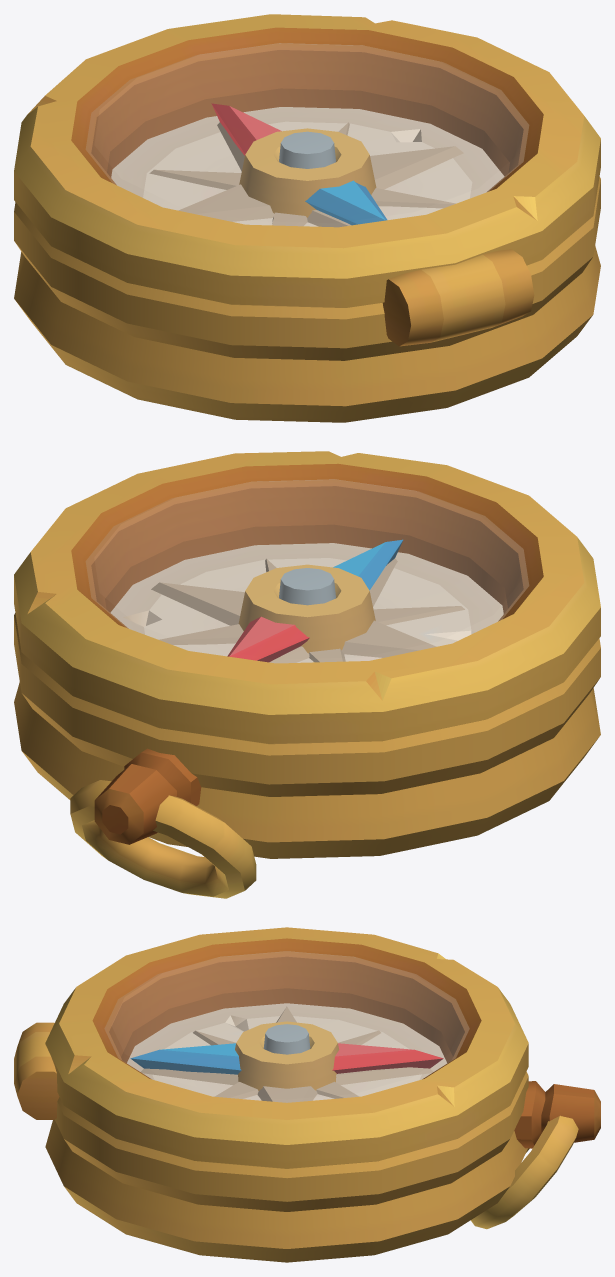
Rendered from compass_base.gltf.
The picture shows the model from 3 angles, top to bottom: view 1: azimuth 30°, elevation 25°; view 2: azimuth 150°, elevation 25°; view 3: azimuth 270°, elevation 25°; orthographic projection. The views are drawn at different scales.
Parts seen in each view (by area): view 1: compass_lid, compass_base, compass_needle; view 2: compass_lid, compass_base, compass_needle; view 3: compass_lid, compass_base, compass_needle.
Part boxes in pixels (bbox=[...]): compass_lid: bbox=[14, 14, 600, 346]; compass_base: bbox=[14, 88, 600, 422]; compass_needle: bbox=[211, 103, 387, 225]; compass_lid: bbox=[14, 451, 600, 744]; compass_base: bbox=[14, 524, 600, 898]; compass_needle: bbox=[227, 539, 402, 662]; compass_lid: bbox=[14, 927, 528, 1168]; compass_base: bbox=[45, 988, 600, 1262]; compass_needle: bbox=[130, 1043, 443, 1074].
Bounding box in the file's own units: 0.574 × 0.2664 × 0.6971.
2 materials, 1 textured.
